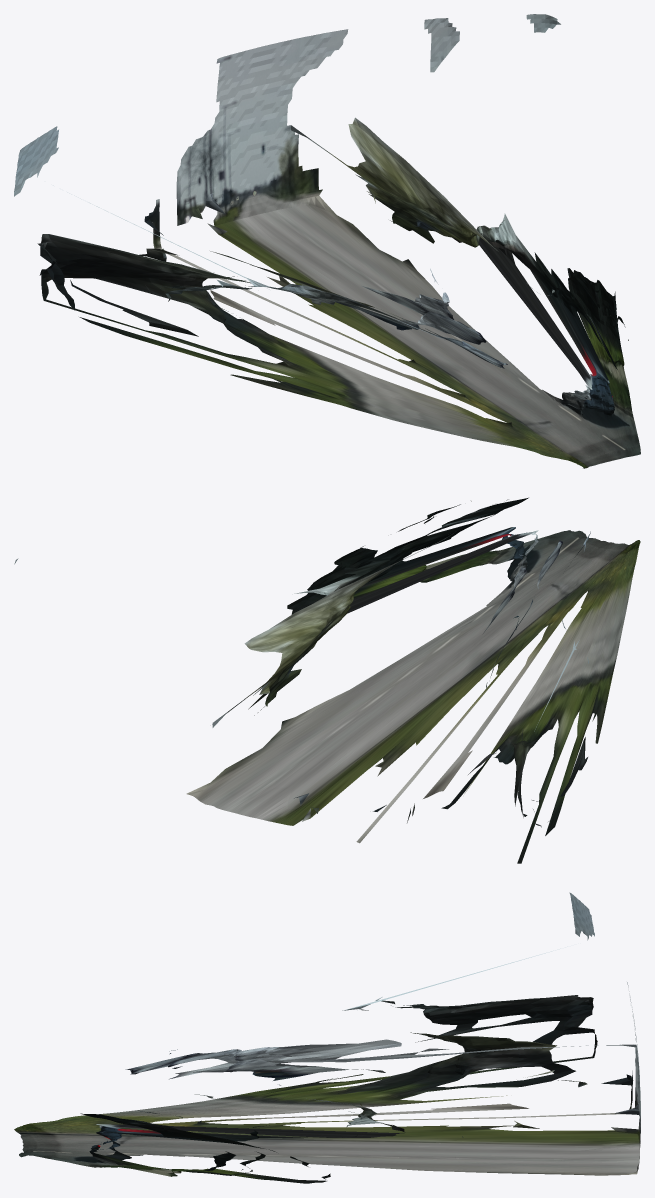
3 views of the same model, one above another, from view 1: azimuth 30°, elevation 25°; view 2: azimuth 150°, elevation 25°; view 3: azimuth 270°, elevation 25° (orthographic). The views are drawn at different scales.
Parts seen in each view (by area): view 1: defaultobject; view 2: defaultobject; view 3: defaultobject.
Part boxes in pixels (x1,y1,x2,y2): defaultobject: [14, 14, 640, 468]; defaultobject: [14, 497, 640, 863]; defaultobject: [14, 892, 640, 1183].
Bounding box in the file's own units: 39.66 × 12.62 × 45.13.
Materials: 1 (1 with a texture image).
